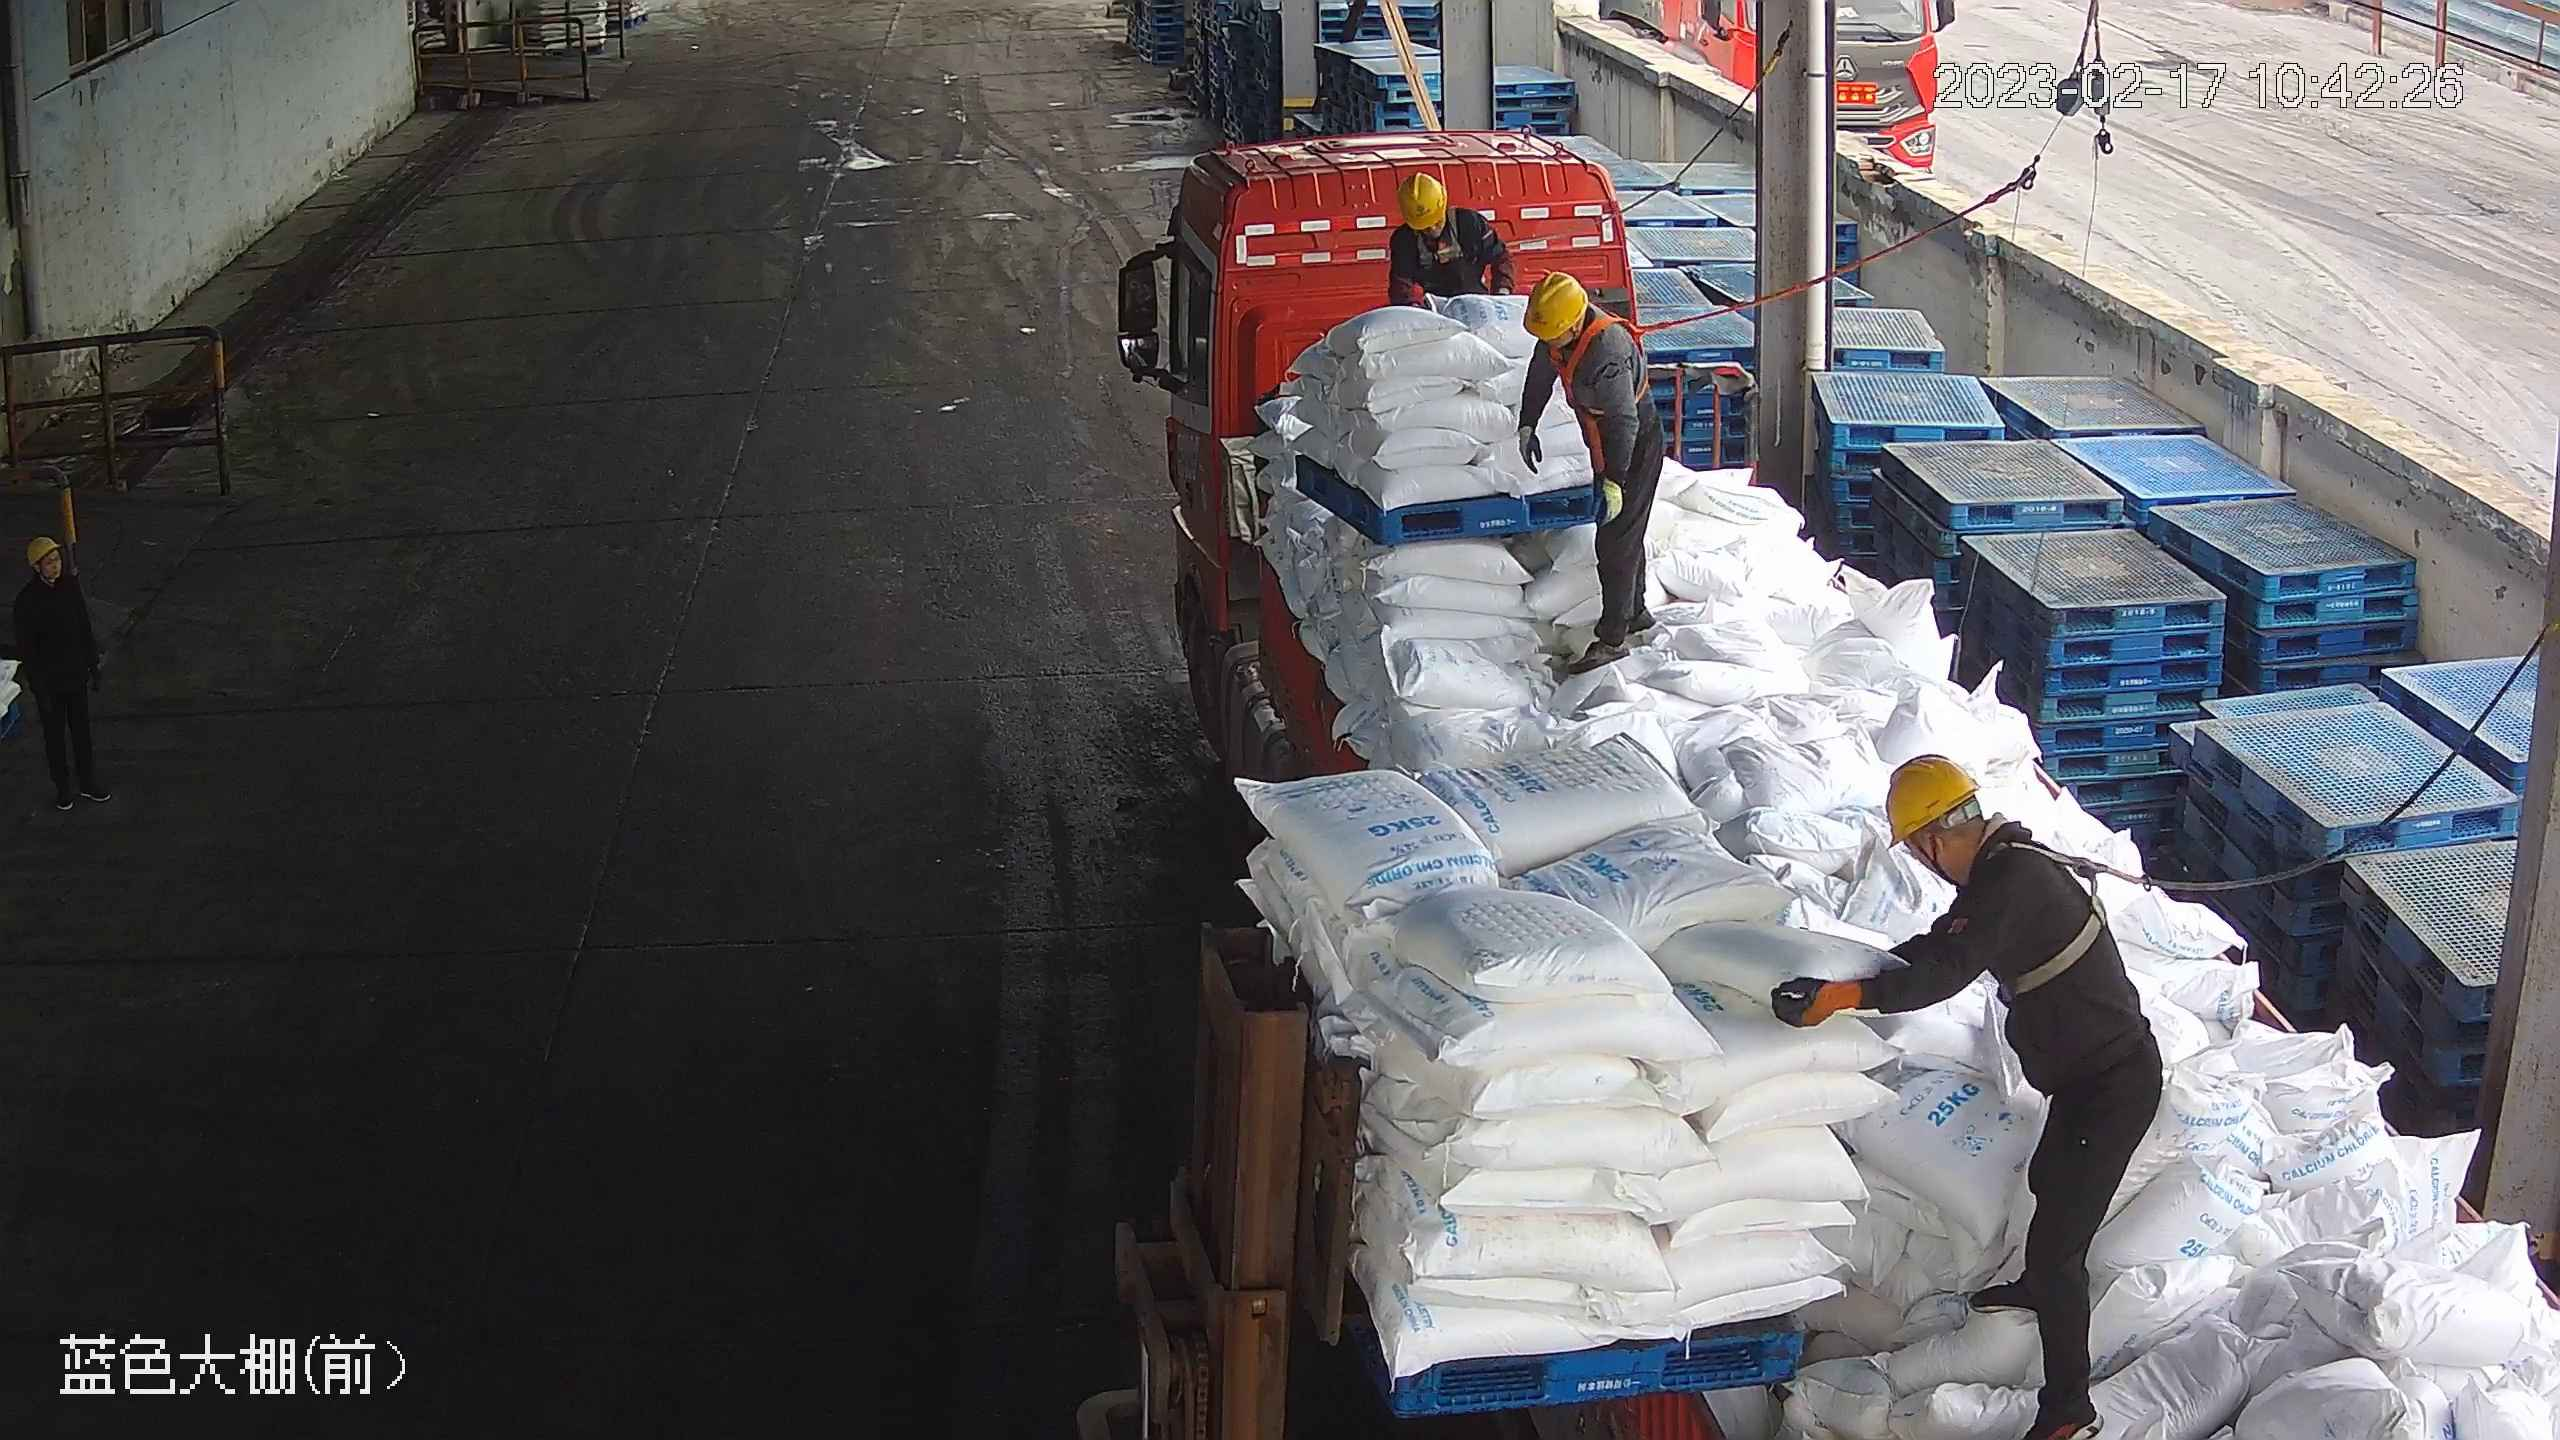belt: (1989, 822, 2130, 997), (1548, 306, 1658, 418), (1411, 222, 1470, 271)
head: (1877, 756, 2096, 966), (1521, 273, 1641, 401), (1390, 170, 1490, 263), (12, 533, 90, 619)
helmet: (1880, 754, 1983, 847), (1523, 273, 1590, 339), (1395, 168, 1448, 226), (24, 535, 62, 564)
people: (1775, 751, 2163, 1440), (1516, 265, 1666, 678), (8, 532, 112, 814)
truck: (1107, 124, 2557, 1440)
